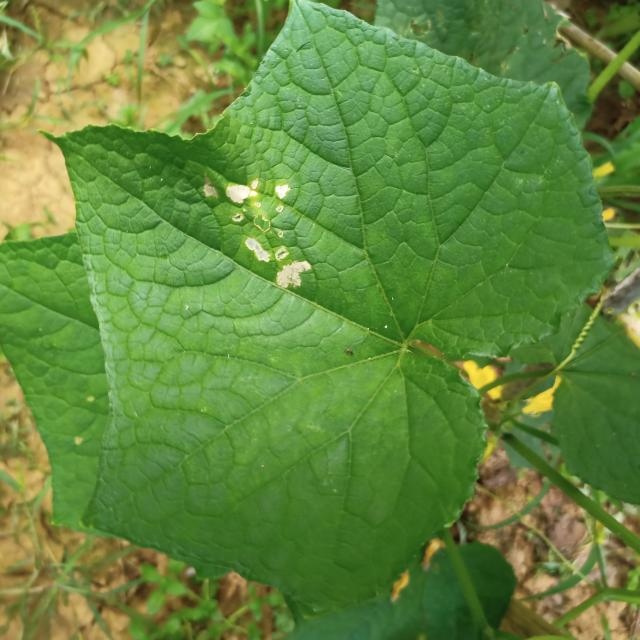disease_cucumber: (200, 173, 318, 296)
